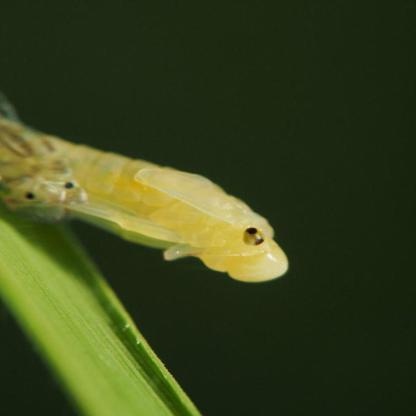green-leafhopper: (0, 110, 291, 290)
